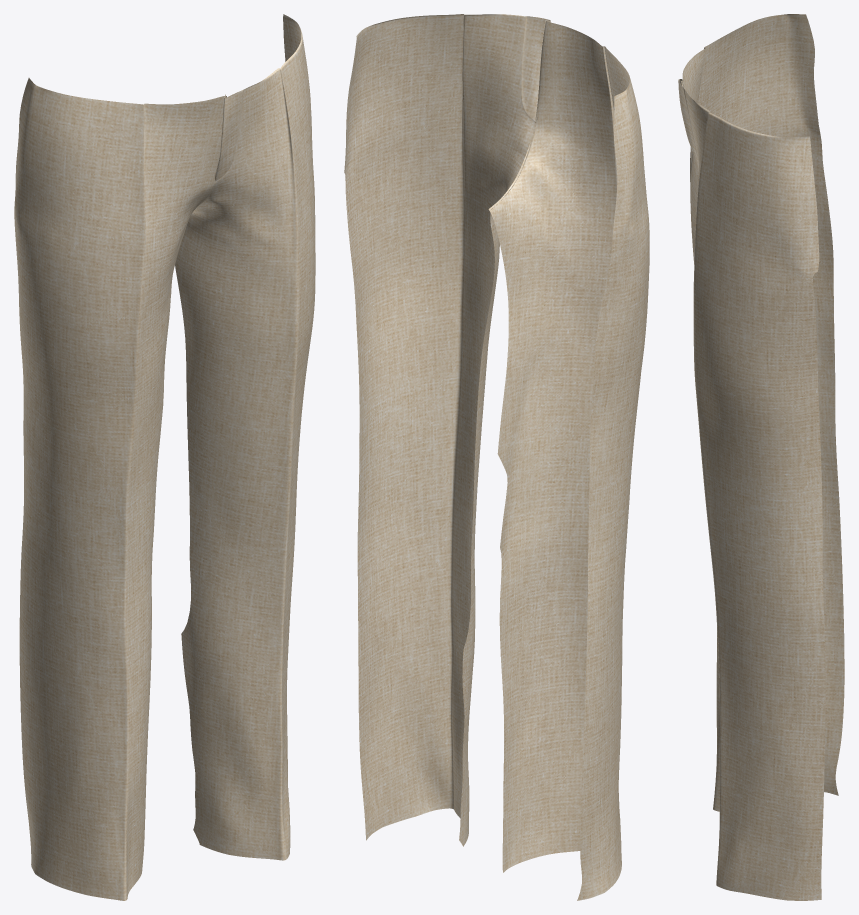
File: forward_single_pleat.glb
3 views of the same model, side by side, from view 1: azimuth 30°, elevation 25°; view 2: azimuth 150°, elevation 25°; view 3: azimuth 270°, elevation 25° (orthographic). The views are drawn at different scales.
Visible parts, largest first — view 1: forward_single_pleat3; view 2: forward_single_pleat3; view 3: forward_single_pleat3.
Boxes of the visible parts, <box> form: forward_single_pleat3: <box>14,14,315,900</box>; forward_single_pleat3: <box>344,14,649,900</box>; forward_single_pleat3: <box>678,14,844,900</box>.
Bounding box in the file's own units: 0.0497 × 0.1341 × 0.0262.
1 material, 1 textured.
